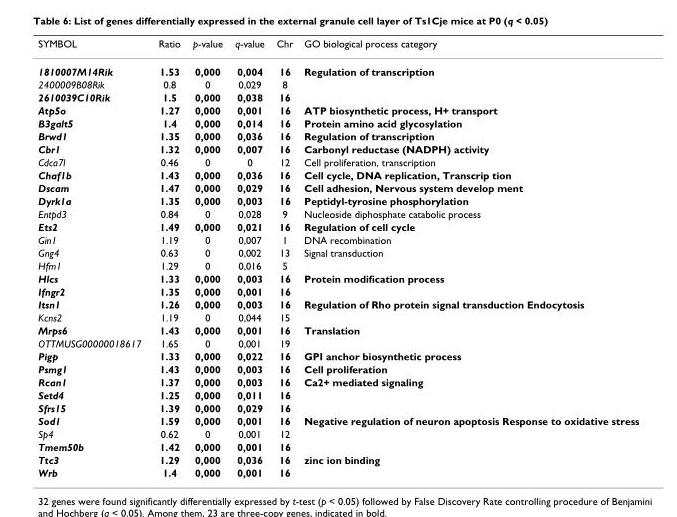table: (37, 37, 638, 478)
table column: (297, 37, 638, 478), (37, 37, 149, 478), (185, 37, 228, 478), (228, 37, 269, 478), (149, 37, 185, 478), (269, 37, 297, 478)
table column header: (37, 37, 638, 57)
table row: (37, 37, 638, 57), (37, 57, 638, 77), (37, 219, 638, 233), (37, 77, 638, 90), (37, 90, 638, 103), (37, 103, 638, 116), (37, 116, 638, 129), (37, 129, 638, 142), (37, 142, 638, 155), (37, 155, 638, 168), (37, 168, 638, 181), (37, 181, 638, 194), (37, 194, 638, 207), (37, 245, 638, 258), (37, 258, 638, 271), (37, 271, 638, 284), (37, 284, 638, 297), (37, 297, 638, 310), (37, 310, 638, 323), (37, 323, 638, 336), (37, 336, 638, 349), (37, 349, 638, 362), (37, 362, 638, 375), (37, 375, 638, 388), (37, 388, 638, 401), (37, 401, 638, 414), (37, 414, 638, 427), (37, 439, 638, 452), (37, 452, 638, 465), (37, 465, 638, 478), (37, 207, 638, 219), (37, 233, 638, 245), (37, 427, 638, 439)
